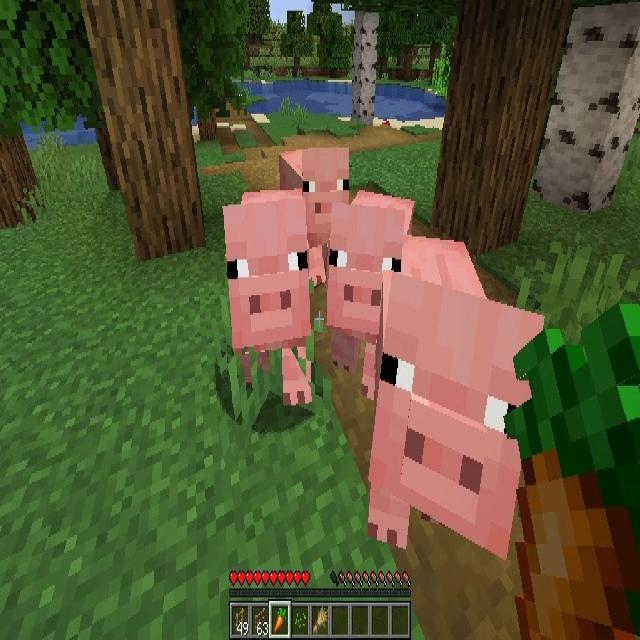pig: (368, 237, 544, 559), (224, 188, 314, 407), (327, 189, 414, 399), (280, 146, 351, 286)
